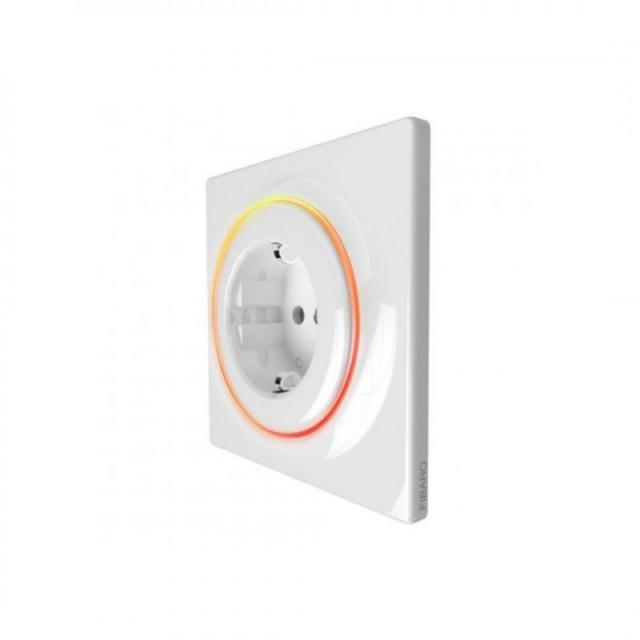typeb: (224, 216, 352, 421)
